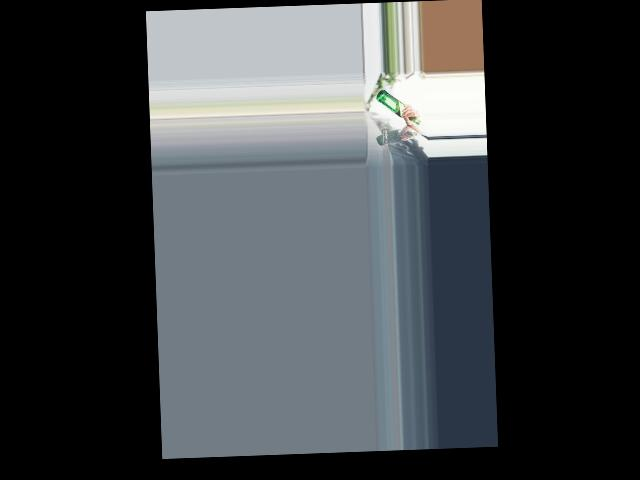beer: (375, 88, 419, 127)
